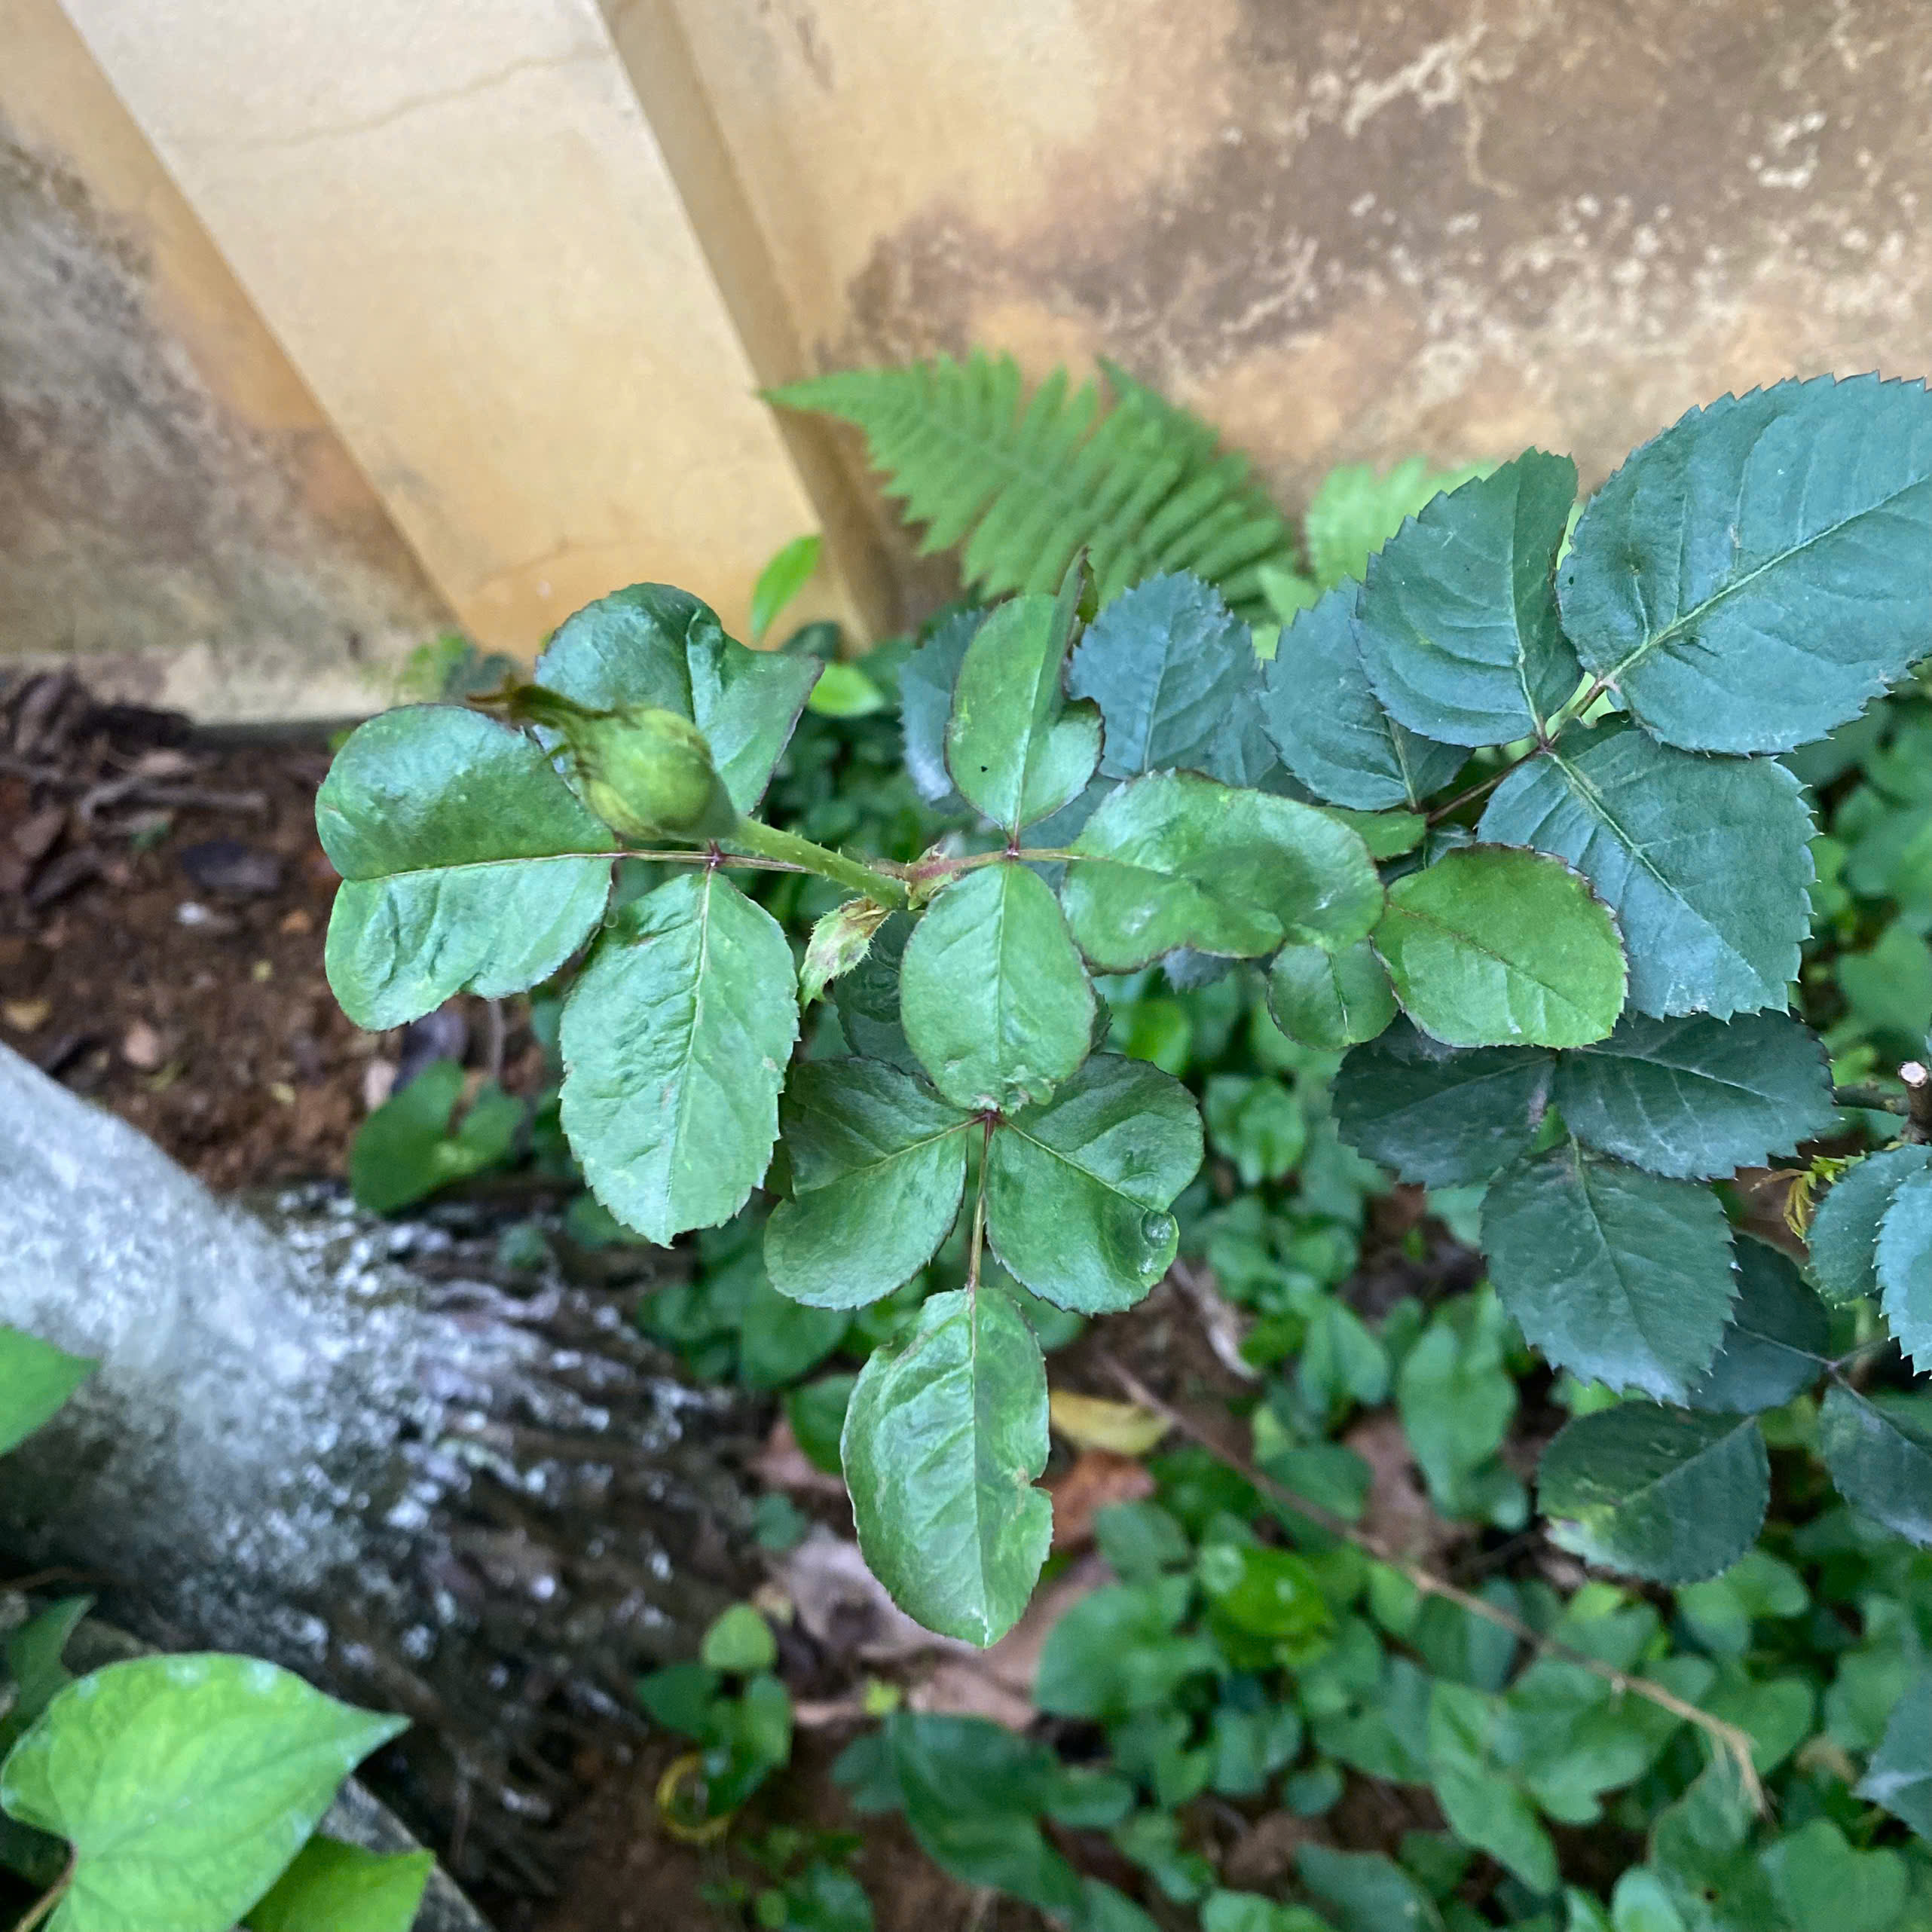hoa_thuoc_duoc: (308, 460, 1932, 1612)
